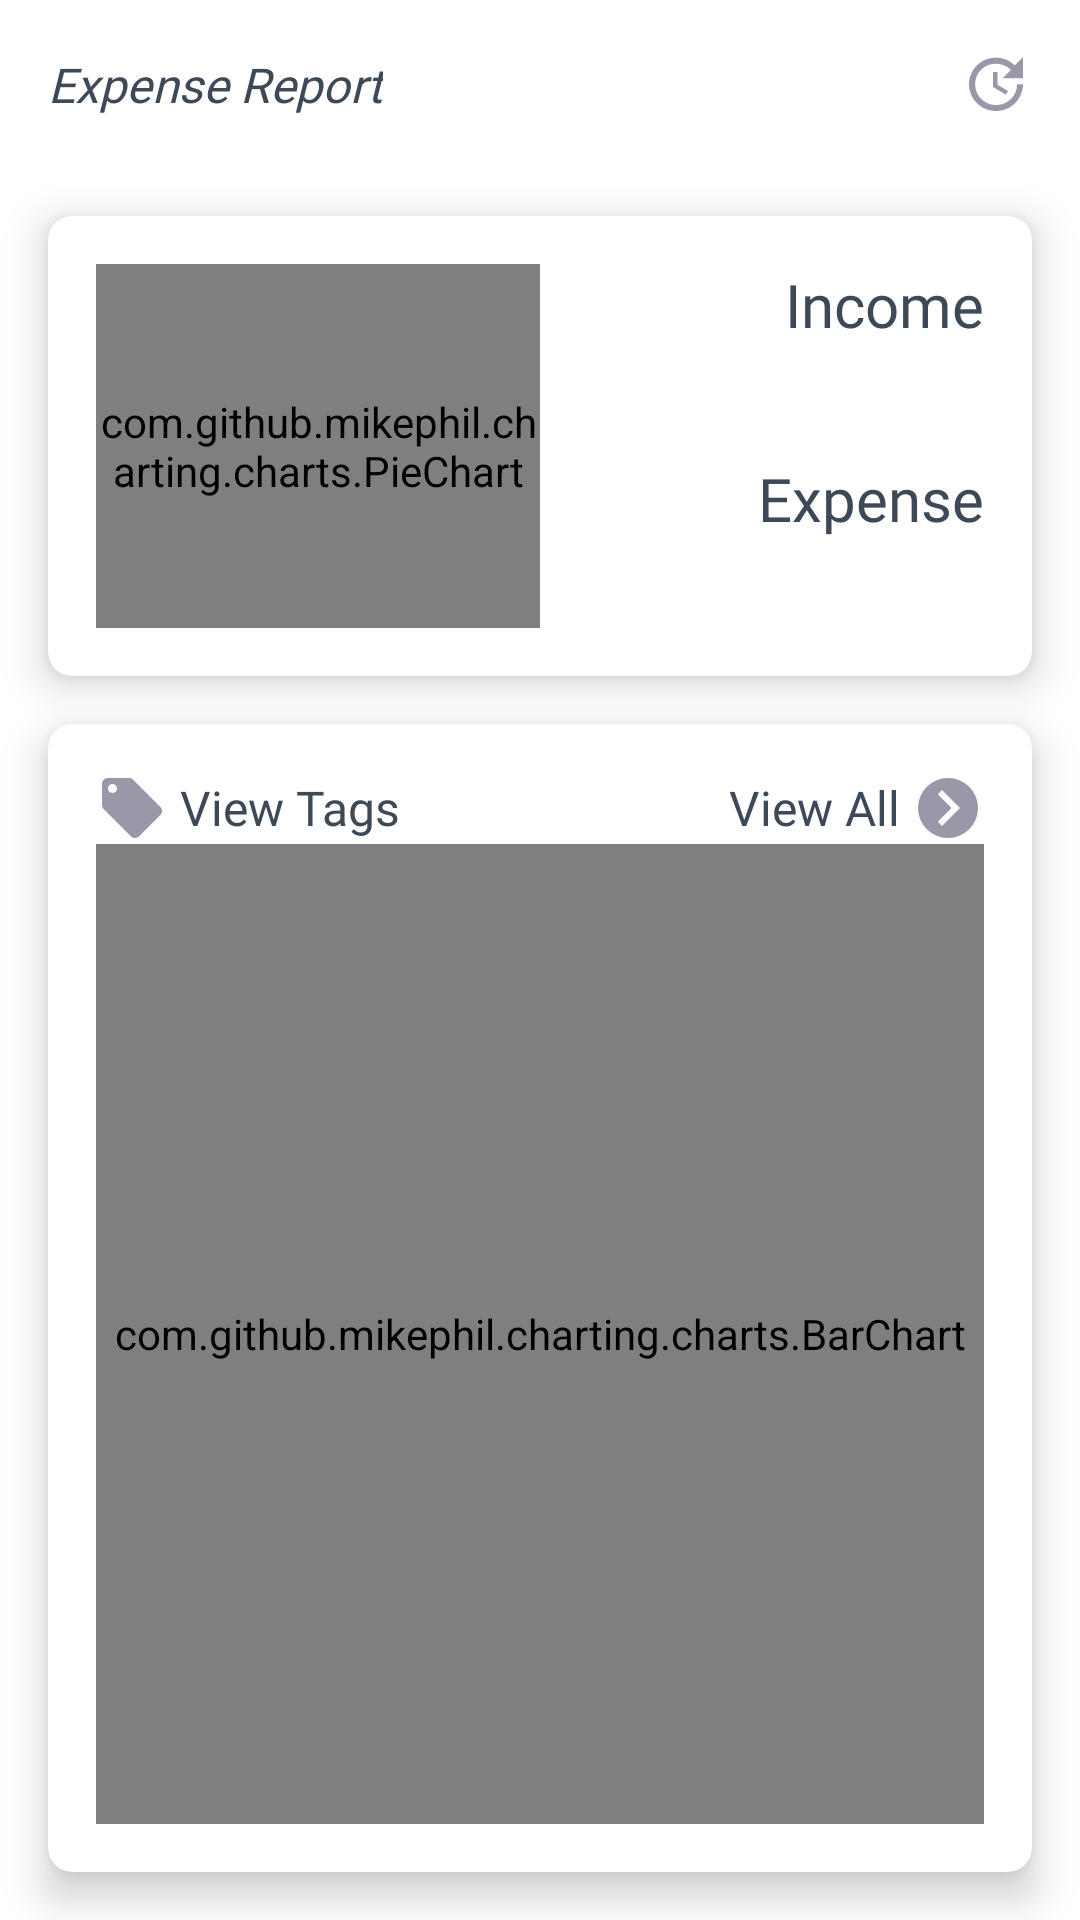

Locate icon controls on the screen. Image size 1080*1920, boxes as (x1, y1, x2, y2).
update: (969, 57, 1023, 111)
